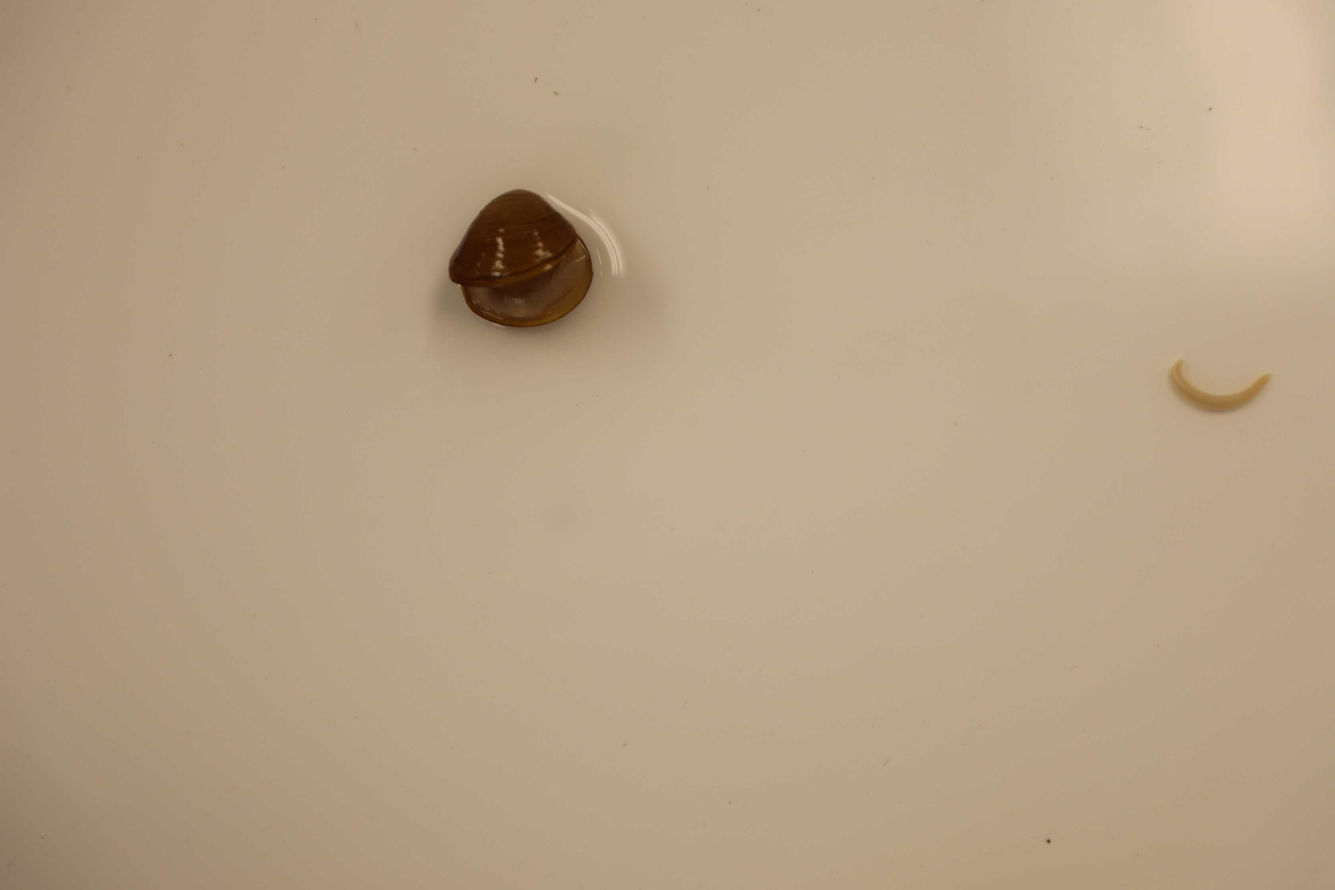Cadisfly: (1171, 362, 1270, 419)
Other: (441, 185, 594, 337)
